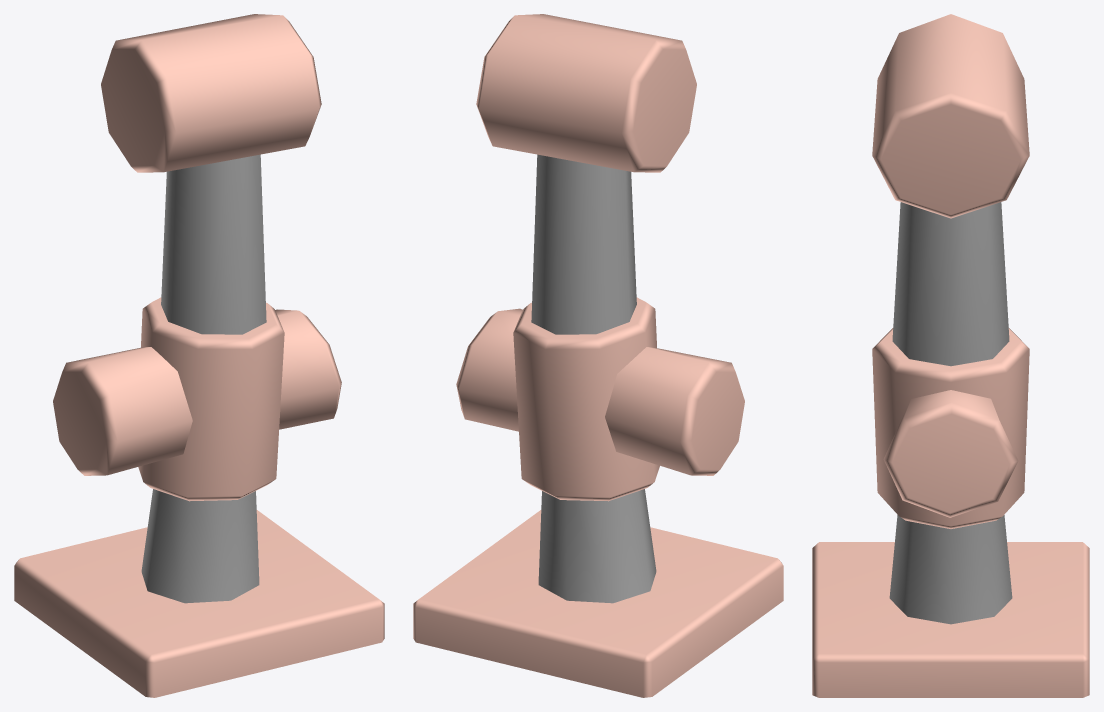
Rendered from railing_002.fbx.
3 views of the same model, side by side, from view 1: azimuth 30°, elevation 25°; view 2: azimuth 150°, elevation 25°; view 3: azimuth 270°, elevation 25° (orthographic).
Parts seen in each view (by area): view 1: railing_002; view 2: railing_002; view 3: railing_002.
Part boxes in pixels (x1,y1,x2,y2): railing_002: (14,14,384,697); railing_002: (413,14,783,697); railing_002: (812,14,1089,697).
Size of the model in its own units: 45.01 by 44.58 by 106.
